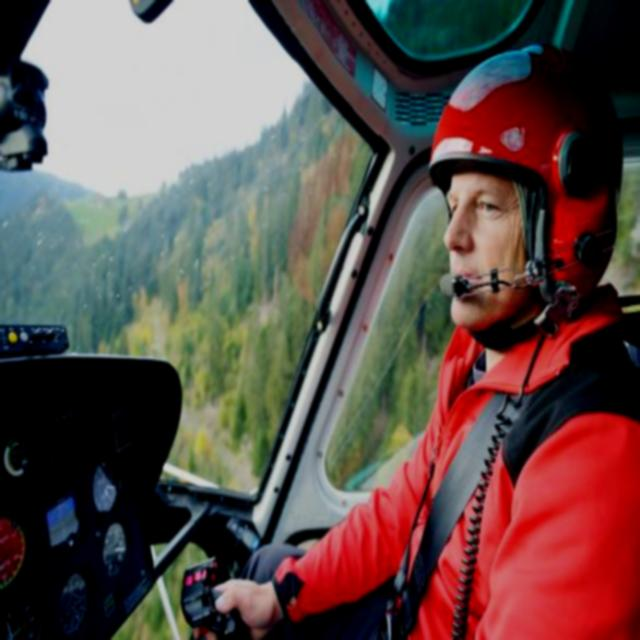with-helmet: (432, 36, 627, 341)
